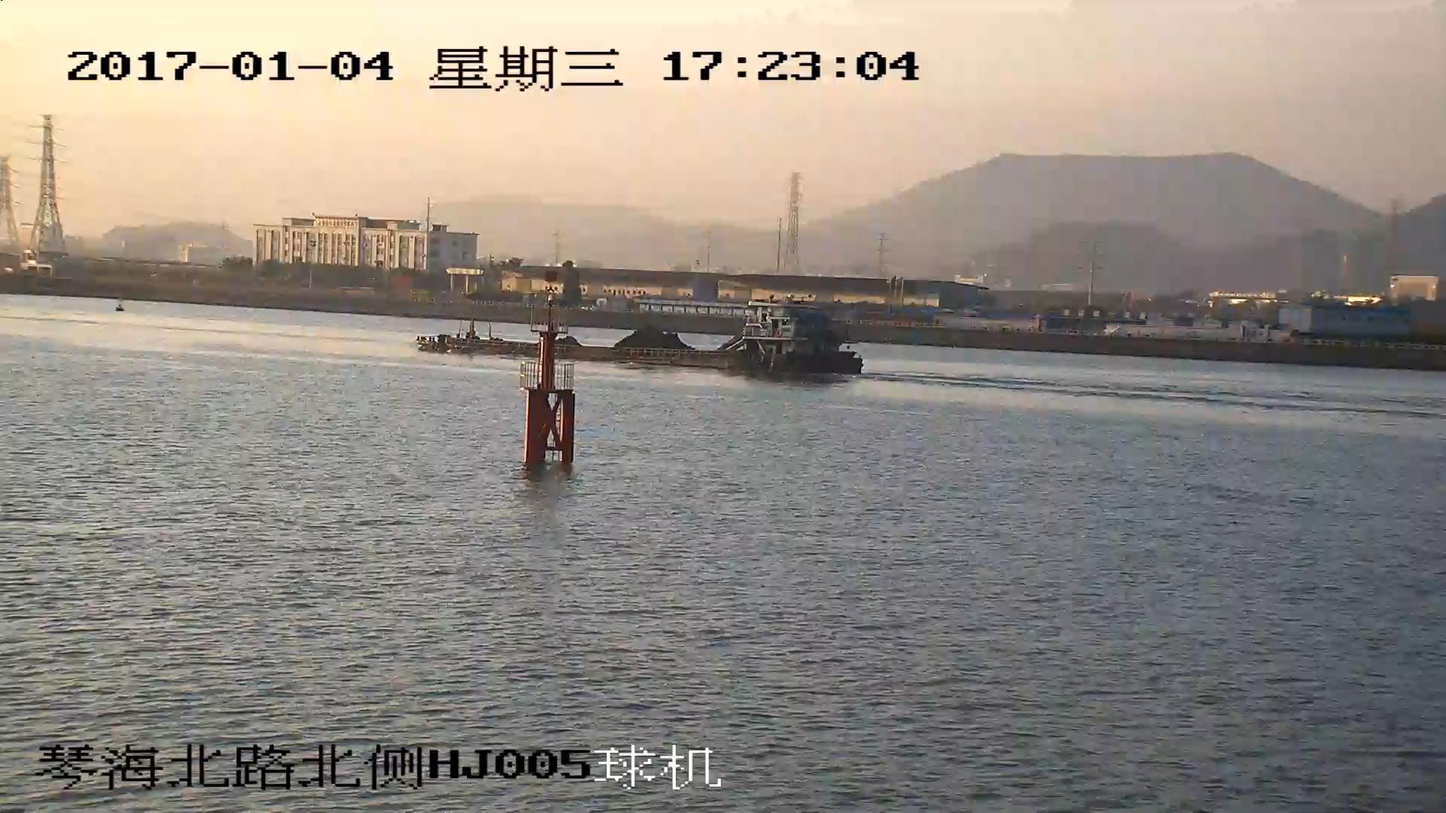ore carrier: (416, 298, 862, 376)
